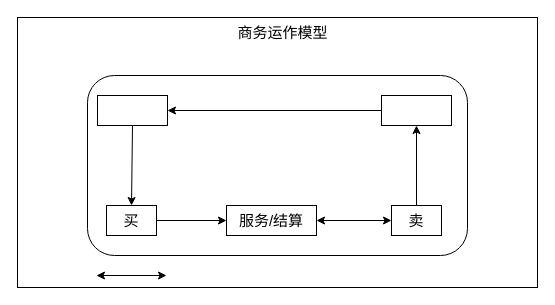
Image size: 555x305. Some labels were removed from this diagram. The centre of each missing label's shape, as x and y in pixels:
"售前" belongs at point 132,110.
"售后" belongs at point 416,110.
